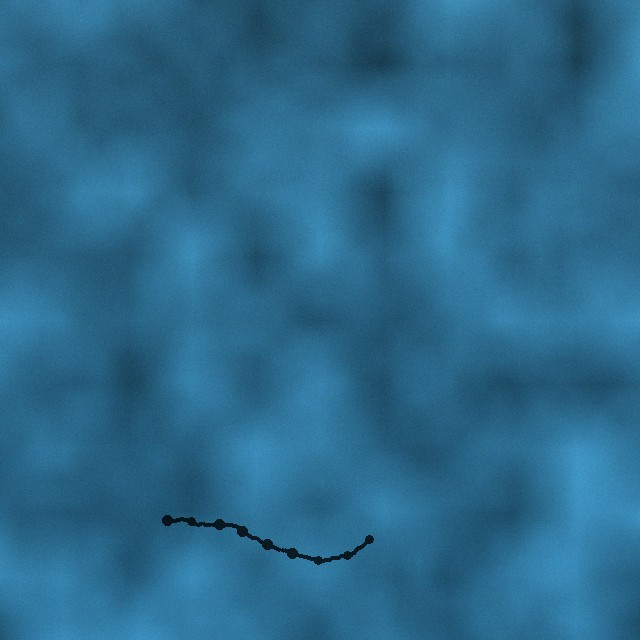crack: (161, 512, 375, 566)
